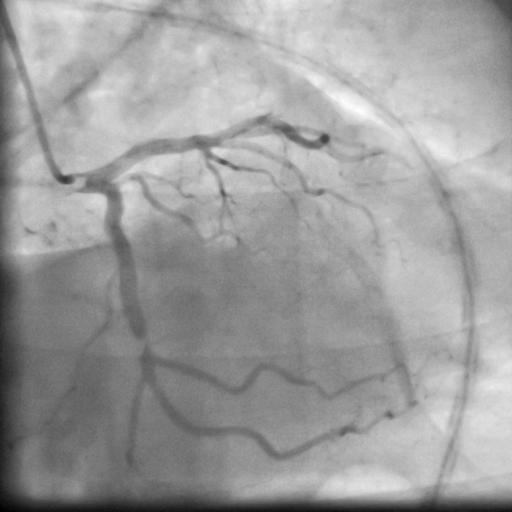Stenosis: (134, 331, 152, 352)
